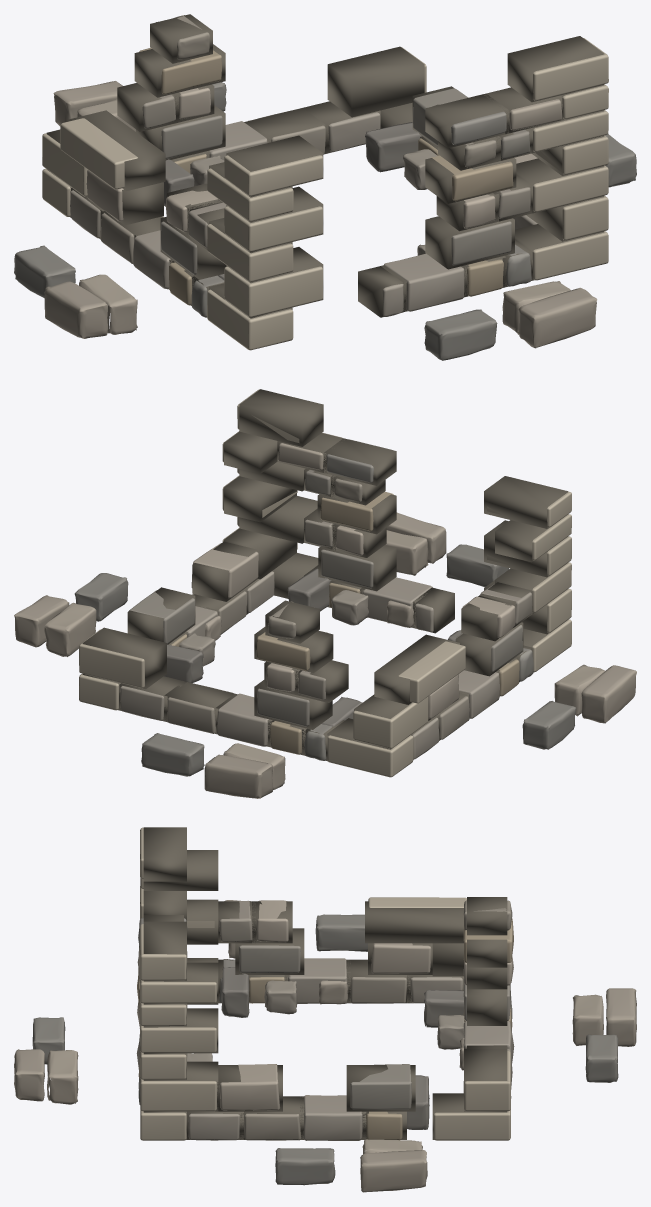
The model's file is ruin_tower.gltf.
3 views of the same model, one above another, from view 1: azimuth 30°, elevation 25°; view 2: azimuth 150°, elevation 25°; view 3: azimuth 270°, elevation 25° (orthographic). The views are drawn at different scales.
Parts seen in each view (by area): view 1: ruin_tower_stone_LOD0, ruin_tower_mortar_LOD0; view 2: ruin_tower_stone_LOD0, ruin_tower_mortar_LOD0; view 3: ruin_tower_stone_LOD0, ruin_tower_mortar_LOD0.
Part boxes in pixels (x1,y1,x2,y2): ruin_tower_stone_LOD0: [14, 15, 636, 360]; ruin_tower_mortar_LOD0: [46, 14, 604, 318]; ruin_tower_stone_LOD0: [14, 389, 636, 798]; ruin_tower_mortar_LOD0: [82, 389, 568, 761]; ruin_tower_stone_LOD0: [14, 827, 636, 1192]; ruin_tower_mortar_LOD0: [143, 827, 507, 1139].
Size of what is drawn, in the model's own units: 6.74 by 2.25 by 6.74.
